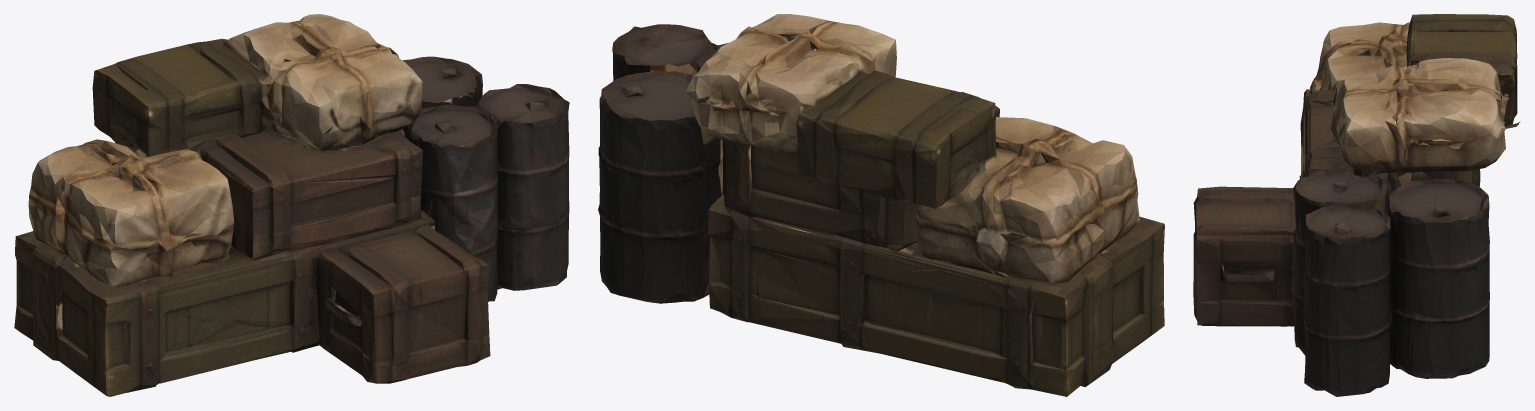
The model's file is military_freight_1117.glb.
The picture shows the model from 3 angles, left to right: view 1: azimuth 30°, elevation 25°; view 2: azimuth 150°, elevation 25°; view 3: azimuth 270°, elevation 25°; orthographic projection. The views are drawn at different scales.
Parts seen in each view (by area): view 1: world; view 2: world; view 3: world.
Boxes of the visible parts, x1,y1,x2,y2 form: world: (14, 14, 569, 396); world: (598, 14, 1164, 396); world: (1193, 14, 1520, 396).
Size of the model in its own units: 2.04 by 1 by 1.28.
1 material, 1 textured.
